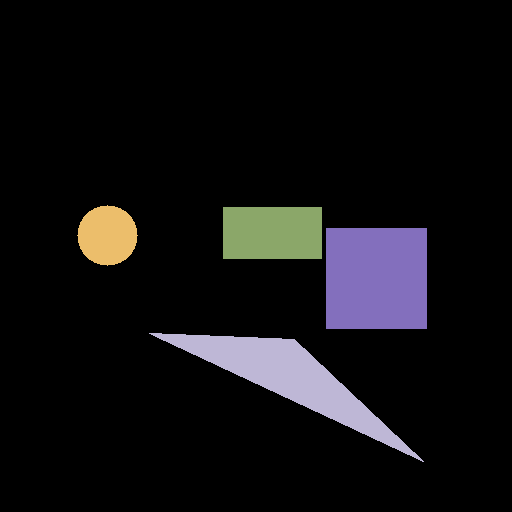circle: (77, 205, 137, 265)
rectangle: (223, 207, 321, 258)
square: (326, 228, 426, 328)
triangle: (149, 333, 423, 461)
